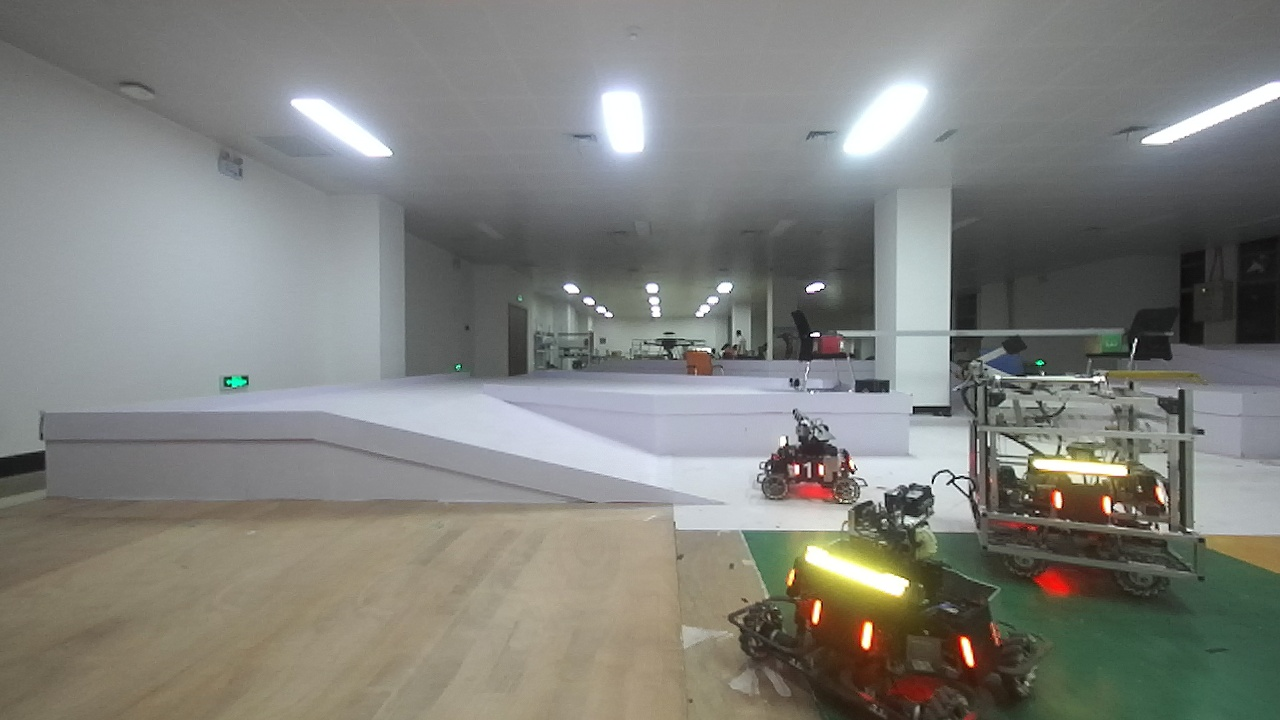car: (959, 336, 1215, 609), (746, 495, 1043, 716), (752, 384, 858, 513)
